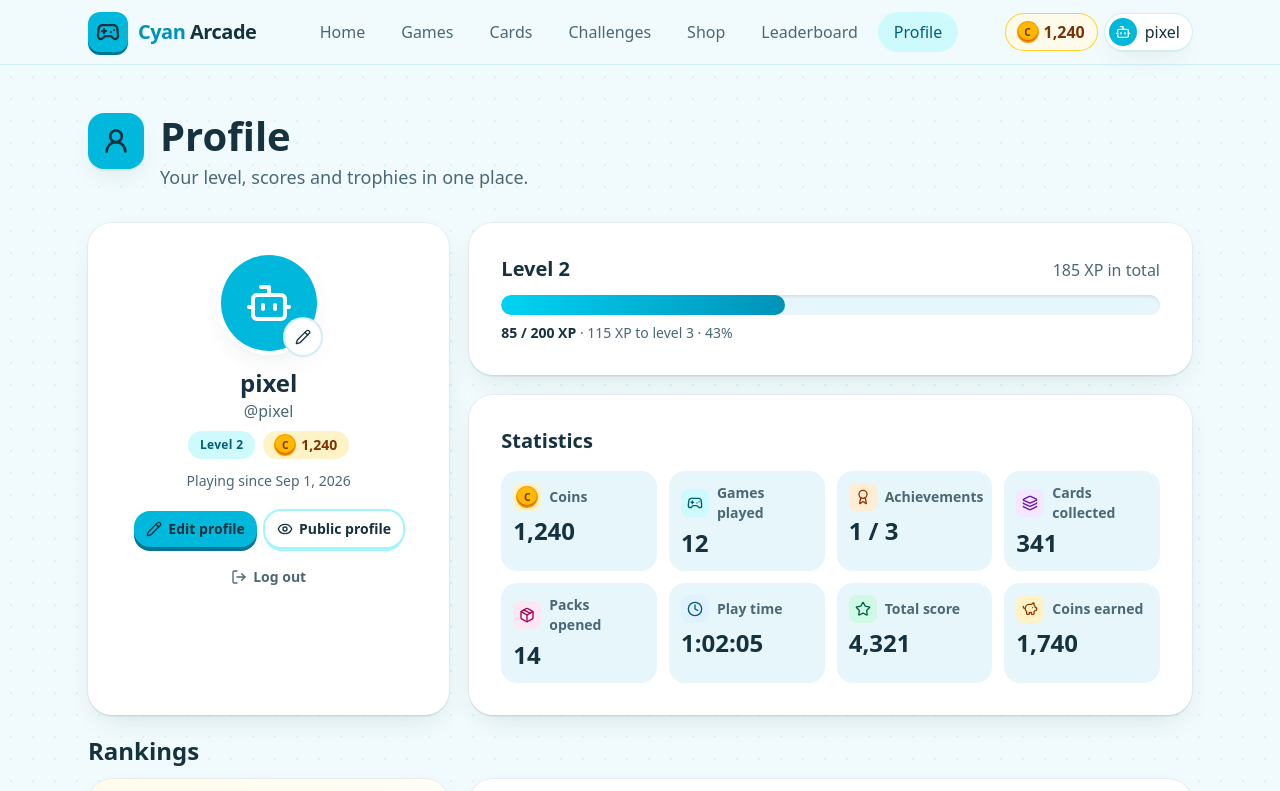
Test case: editing your profile › points out a display name that will not do, before sending it
The image size is (1280, 791).
Click the button "Edit profile" at (196, 529), box [134,511,257,547]
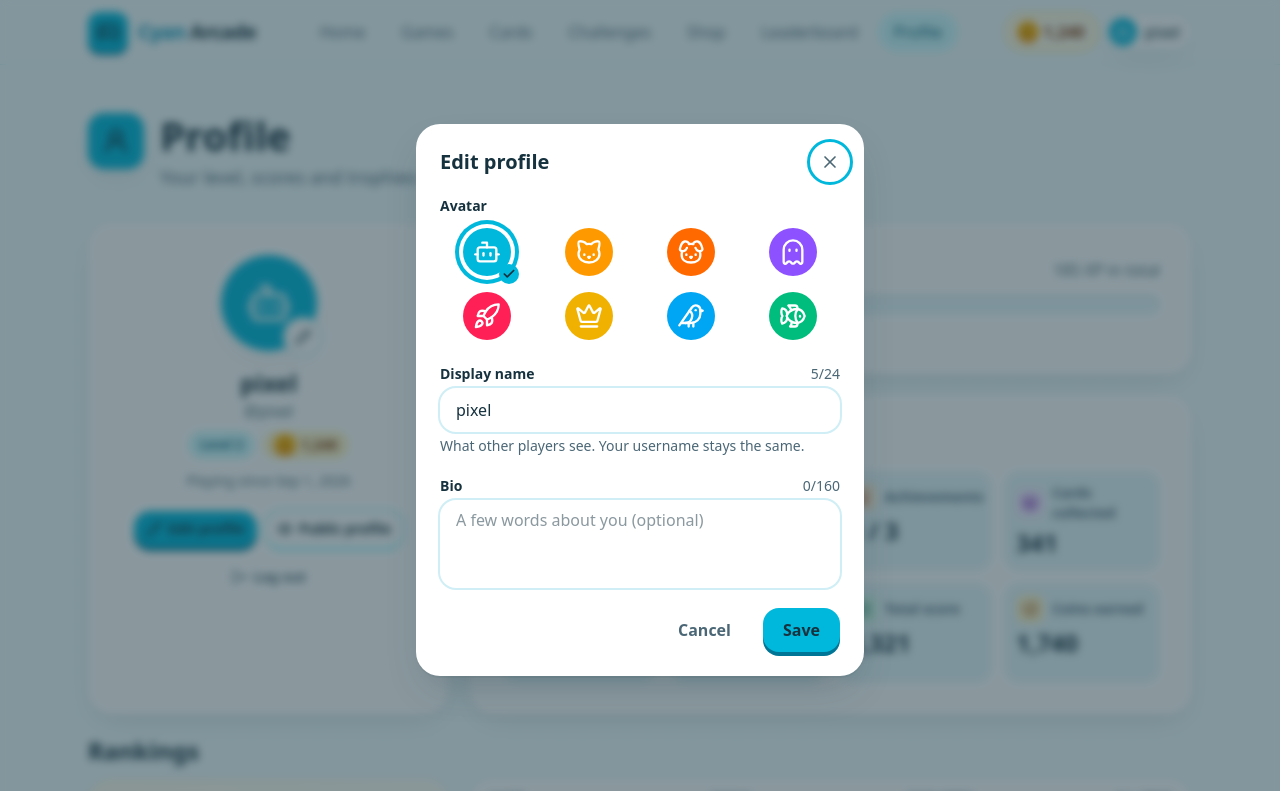
Replace the text in the field labelled "Display name 5/24" with "A" at (640, 410), box [440,388,840,432]
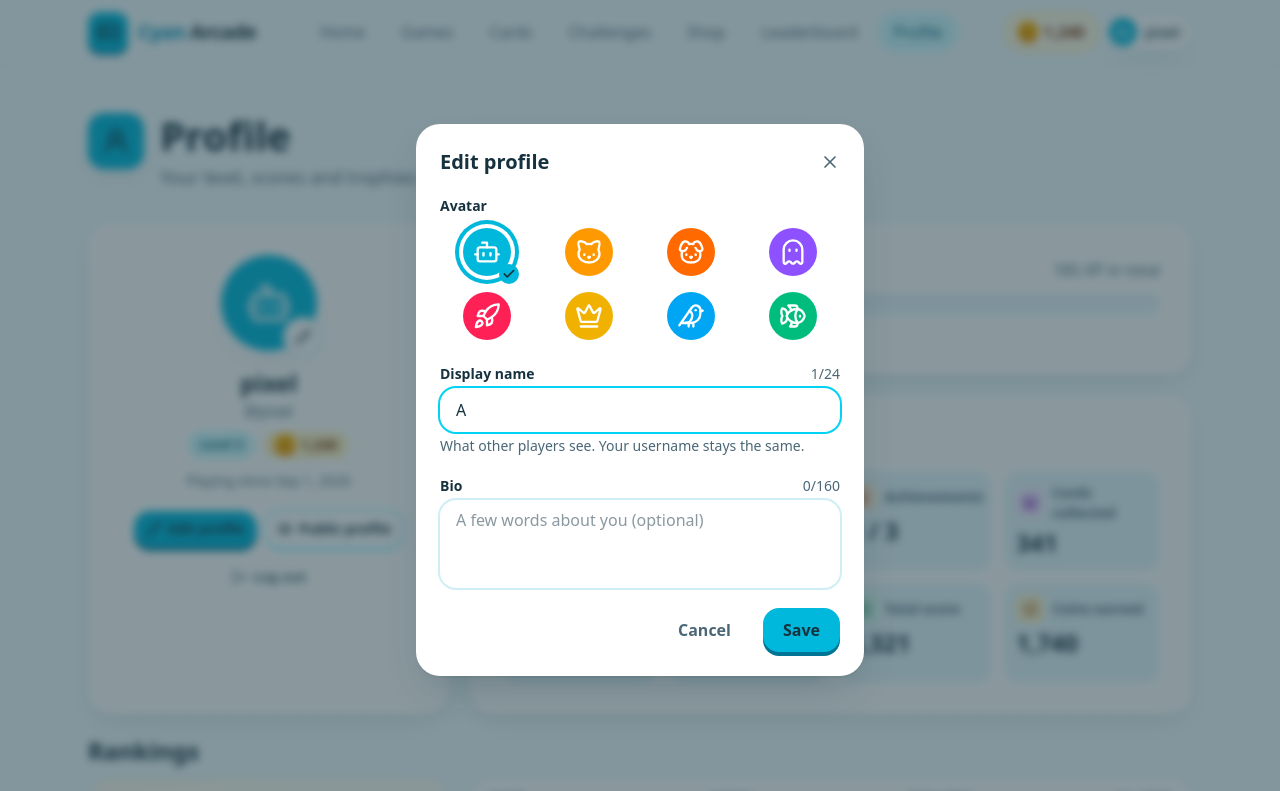
Click the button "Save" at (802, 630), box [763,608,840,652]
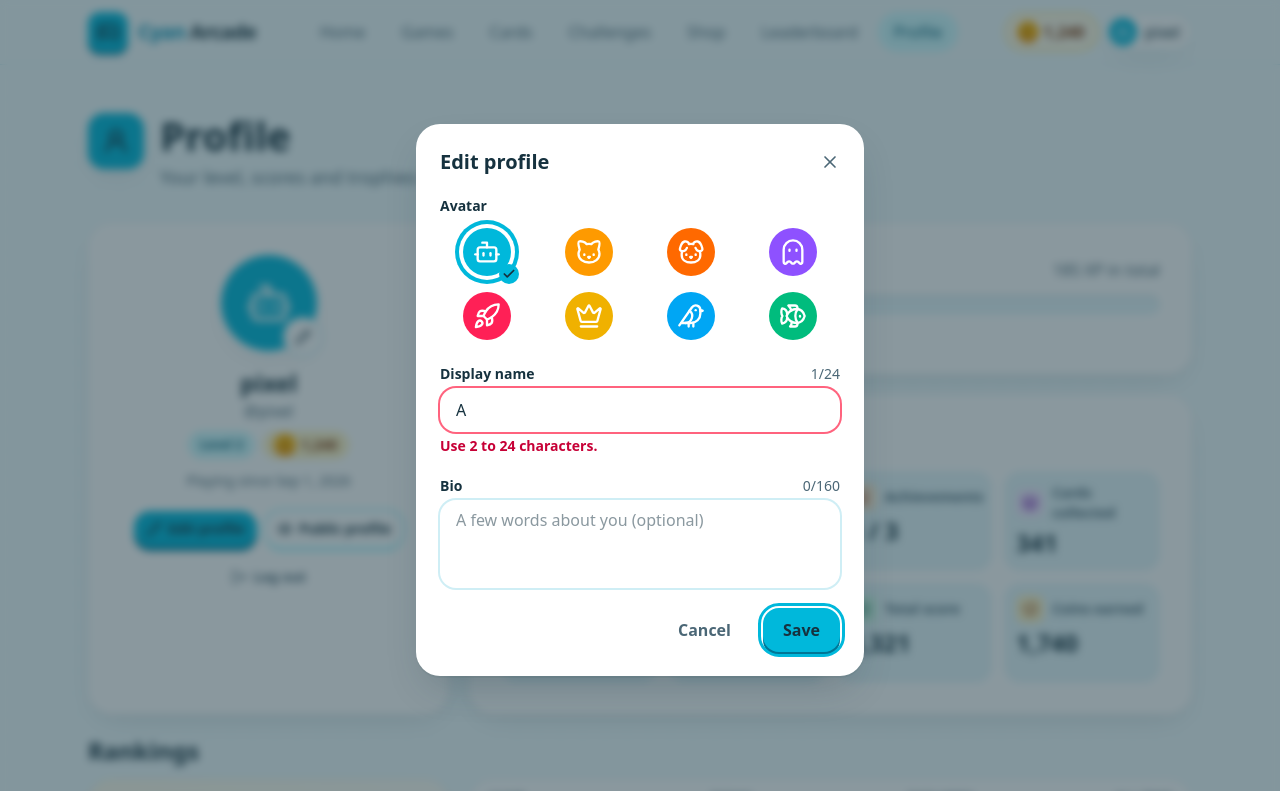
Result: the text "Use 2 to 24 characters." is shown at [440,436,597,455]
Replace the text in the field labelled "Display name 1/24" with "<script>" at (640, 410), box [440,388,840,432]
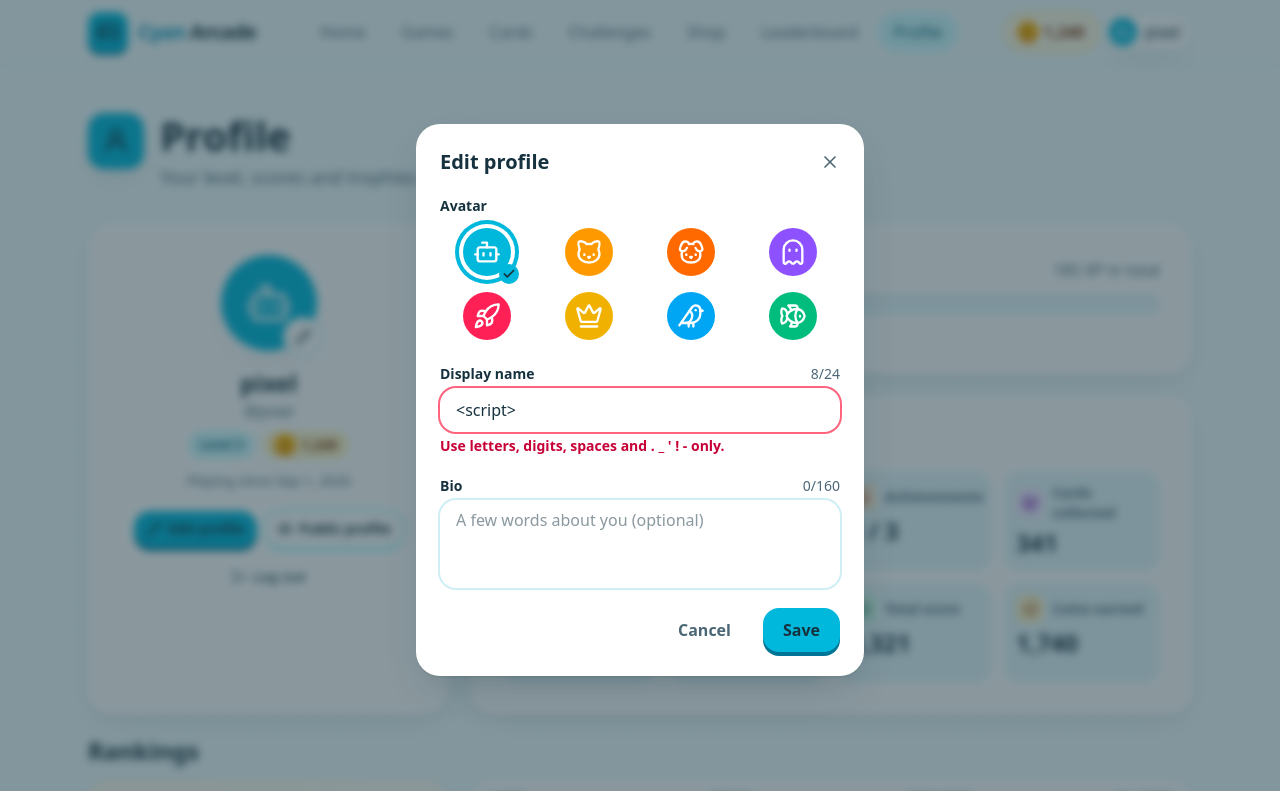
Result: the text "Use letters, digits, spaces and . _ ' ! - only." is shown at [440,436,724,455]
